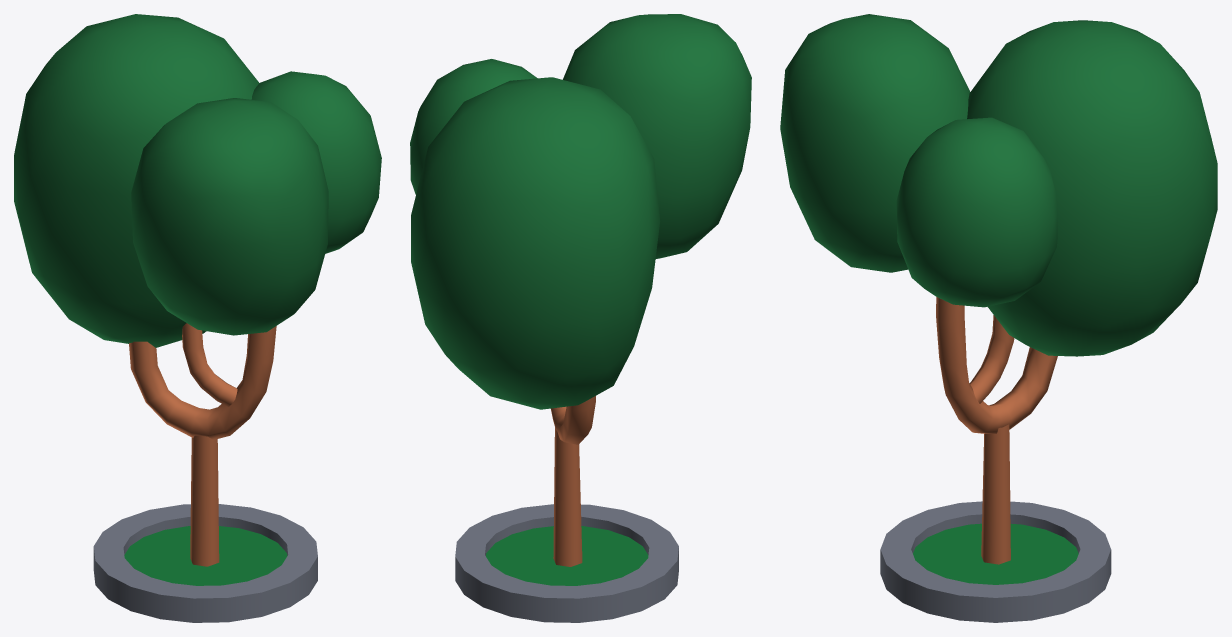
File: tree_v5.fbx
3 renders of one model, left to right at view 1: azimuth 30°, elevation 25°; view 2: azimuth 150°, elevation 25°; view 3: azimuth 270°, elevation 25°, orthographic. The views are drawn at different scales.
Visible parts, largest first — view 1: tree_v5; view 2: tree_v5; view 3: tree_v5.
Part boxes in pixels (bbox=[...]): tree_v5: bbox=[14, 14, 381, 622]; tree_v5: bbox=[410, 14, 751, 622]; tree_v5: bbox=[780, 14, 1217, 622].
Size of the model in its own units: 207 by 362 by 269.
